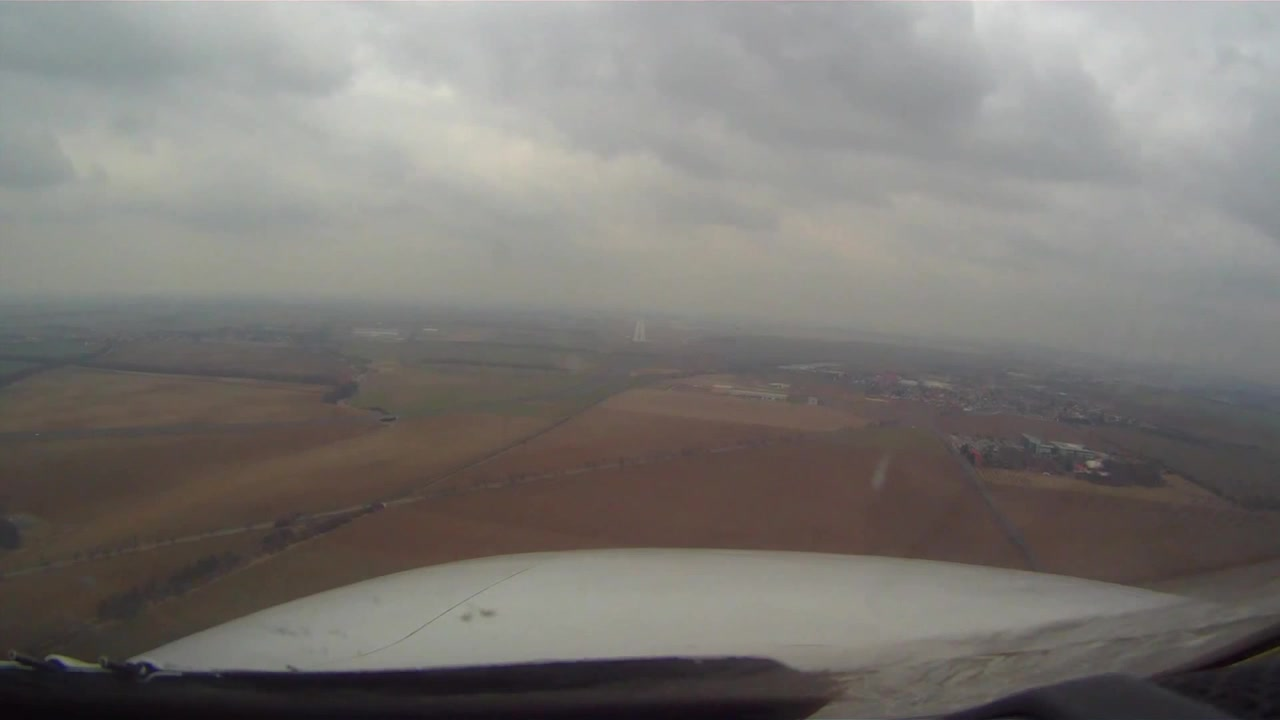runway: (631, 316, 649, 345)
